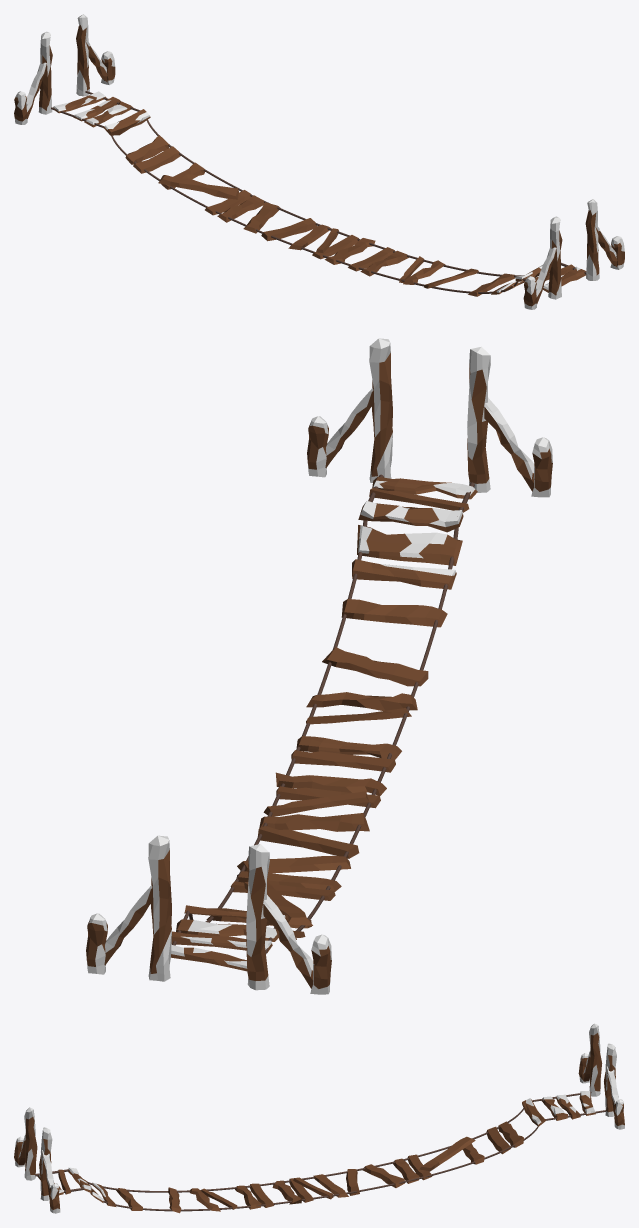
Rendered from Bridge.fbx.
The picture shows the model from 3 angles, top to bottom: view 1: azimuth 30°, elevation 25°; view 2: azimuth 150°, elevation 25°; view 3: azimuth 270°, elevation 25°; orthographic projection. The views are drawn at different scales.
Visible parts, largest first — view 1: Cube.043, Cube.004, Cylinder.098, Cube.007, Cylinder.097, Cube.040, Cube.027, Cube.023, Cube.028, Cube.012, Cube.011, Cube.009 (+6 smaller); view 2: Cube.043, Cube.004, Cube.003, Cube.005, Cube.002, Cube.017, Cube.030, Cube.010, Cube.009, Cube.006, Cube.023, Cube.008 (+12 smaller); view 3: Cube.004, Cube.043, Cylinder.097, Cylinder.098, Cube.007, Cube.011, Cube.040, Cube.027, Cube.010, Cube.028, Cube.012, Cube.009 (+8 smaller).
Part boxes in pixels (x1=…): Cube.043: x1=14, y1=14, x2=115, y2=124; Cube.004: x1=523, y1=199, x2=624, y2=309; Cylinder.098: x1=51, y1=107, x2=543, y2=293; Cube.007: x1=158, y1=175, x2=238, y2=199; Cylinder.097: x1=85, y1=91, x2=586, y2=277; Cube.040: x1=125, y1=135, x2=169, y2=164; Cube.027: x1=133, y1=146, x2=180, y2=173; Cube.023: x1=261, y1=218, x2=317, y2=241; Cube.028: x1=103, y1=109, x2=150, y2=135; Cube.012: x1=217, y1=195, x2=264, y2=222; Cube.011: x1=243, y1=202, x2=280, y2=233; Cube.009: x1=324, y1=238, x2=375, y2=264; Cube.043: x1=86, y1=835, x2=331, y2=994; Cube.004: x1=307, y1=338, x2=552, y2=497; Cube.003: x1=357, y1=525, x2=462, y2=565; Cube.005: x1=341, y1=599, x2=447, y2=627; Cube.002: x1=358, y1=501, x2=463, y2=532; Cube.017: x1=352, y1=559, x2=456, y2=589; Cube.030: x1=322, y1=647, x2=428, y2=686; Cube.010: x1=259, y1=813, x2=369, y2=831; Cube.009: x1=275, y1=772, x2=386, y2=795; Cube.006: x1=306, y1=692, x2=417, y2=710; Cube.023: x1=257, y1=826, x2=359, y2=858; Cube.008: x1=296, y1=736, x2=401, y2=759; Cube.004: x1=14, y1=1107, x2=60, y2=1213; Cube.043: x1=578, y1=1023, x2=624, y2=1129; Cylinder.097: x1=64, y1=1110, x2=605, y2=1211; Cylinder.098: x1=35, y1=1091, x2=591, y2=1192; Cube.007: x1=419, y1=1136, x2=475, y2=1171; Cube.011: x1=362, y1=1164, x2=404, y2=1187; Cube.040: x1=498, y1=1121, x2=523, y2=1147; Cube.027: x1=486, y1=1126, x2=510, y2=1154; Cube.010: x1=313, y1=1174, x2=348, y2=1197; Cube.028: x1=522, y1=1098, x2=546, y2=1126; Cube.012: x1=393, y1=1158, x2=419, y2=1183; Cube.009: x1=272, y1=1180, x2=301, y2=1204.
Bounding box in the file's own units: 1049 × 411 × 2002.
